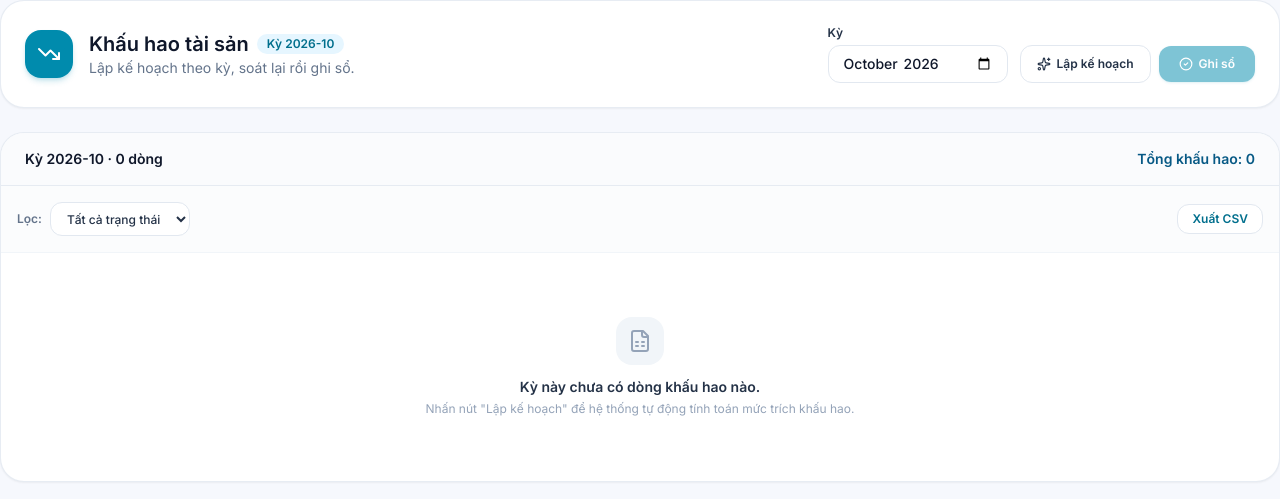
Test: AssetDepreciationPage › plans then posts a period and reports the outcome
Replace the text in the field named "Kỳ khấu hao" with "2026-03": (918, 64) [828,45,1008,83]
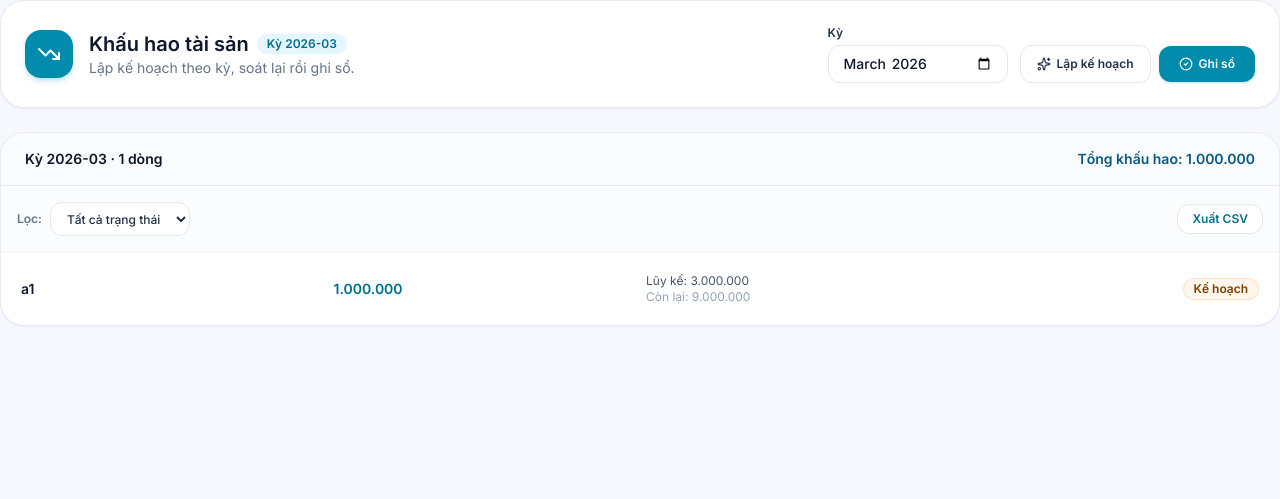
Click the button "Lập kế hoạch": (1085, 64) [1020,45,1151,83]
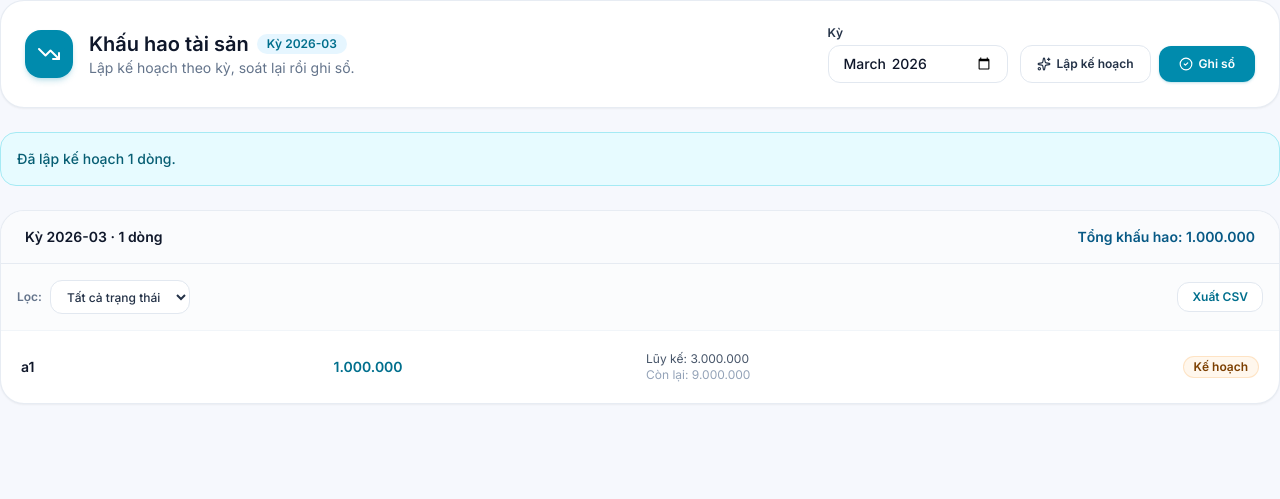
Expected: the text "Đã lập kế hoạch 1 dòng." is shown, [0,132,1279,186]
Click the button "Ghi sổ": (1207, 64) [1159,46,1255,82]
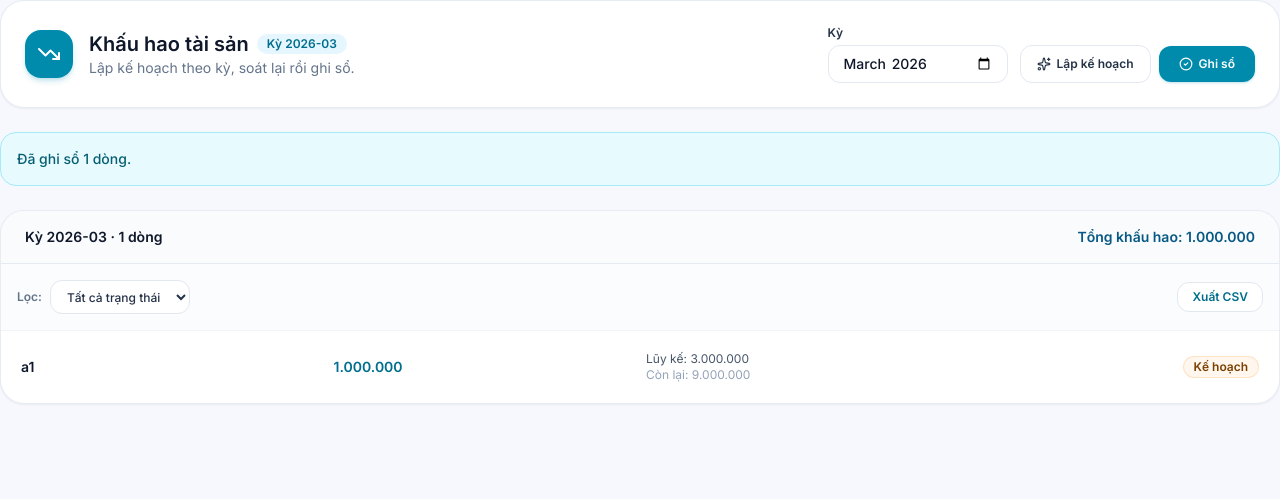
Expected: the text "Đã ghi sổ 1 dòng." is shown, [0,132,1279,186]
